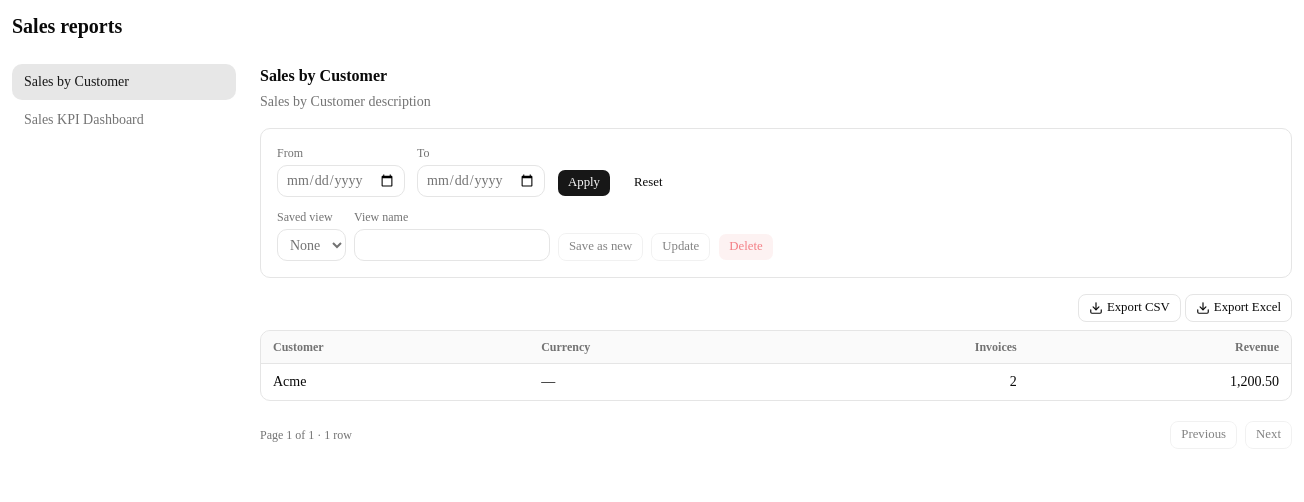
Scenario: Sales page › shows the too-large message when an export exceeds the limit
Expected: the text "Acme" is shown, [261,364,529,400]
Click the button "Export CSV": (1129, 308) [1078,294,1181,322]
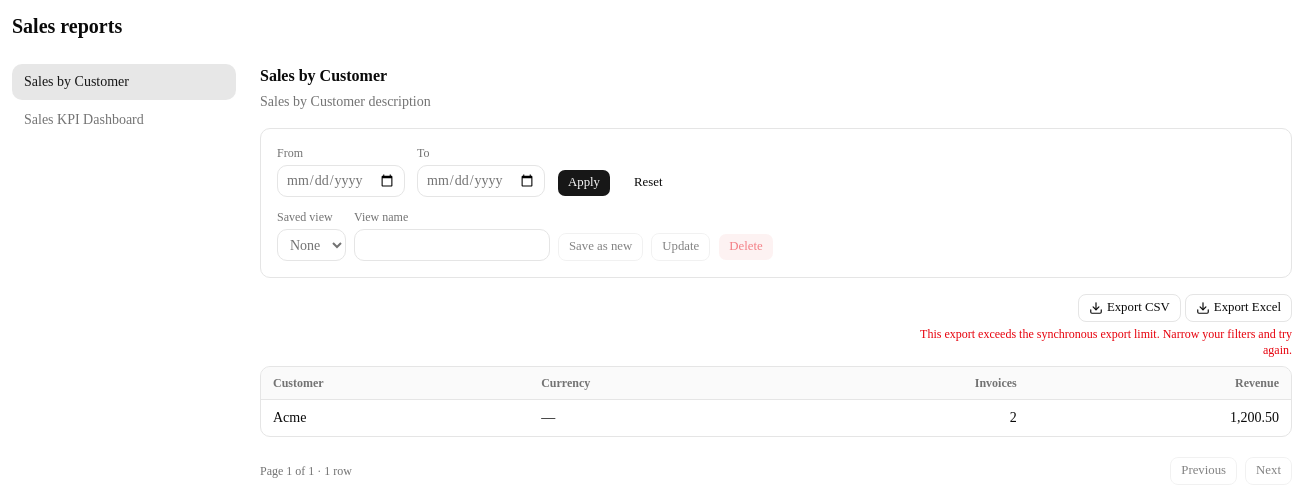
Expected: the message shows "Narrow your filters", [920,327,1292,357]
